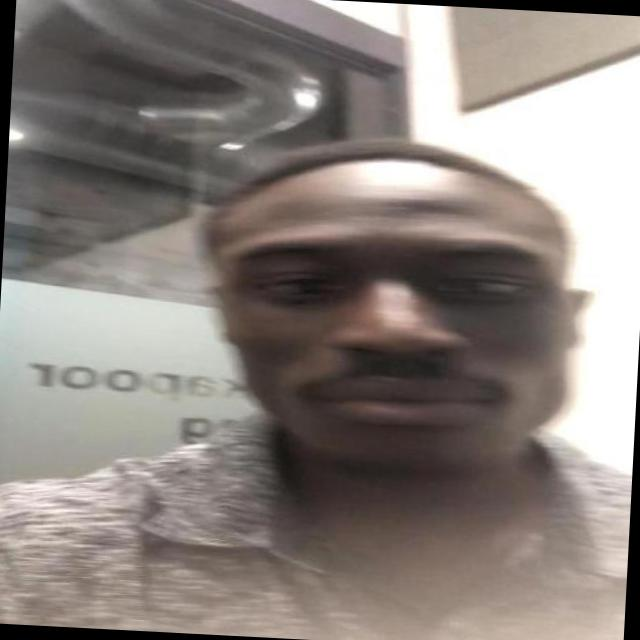bareface: (186, 128, 640, 471)
